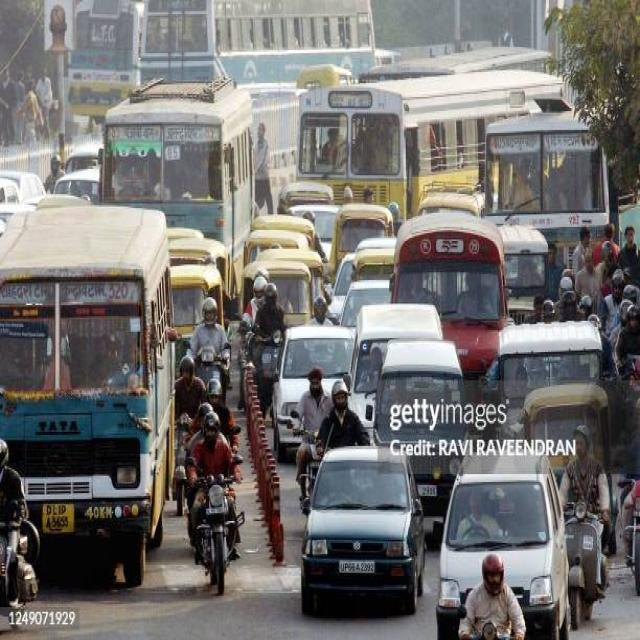Vehicles: (0, 198, 190, 604), (107, 75, 267, 326), (295, 78, 590, 211), (476, 105, 640, 314), (433, 436, 573, 640), (387, 197, 519, 408), (298, 447, 427, 632), (358, 350, 466, 505), (265, 323, 365, 464), (181, 453, 235, 608), (236, 232, 319, 331), (320, 203, 400, 293), (562, 504, 600, 635), (247, 318, 284, 404)
